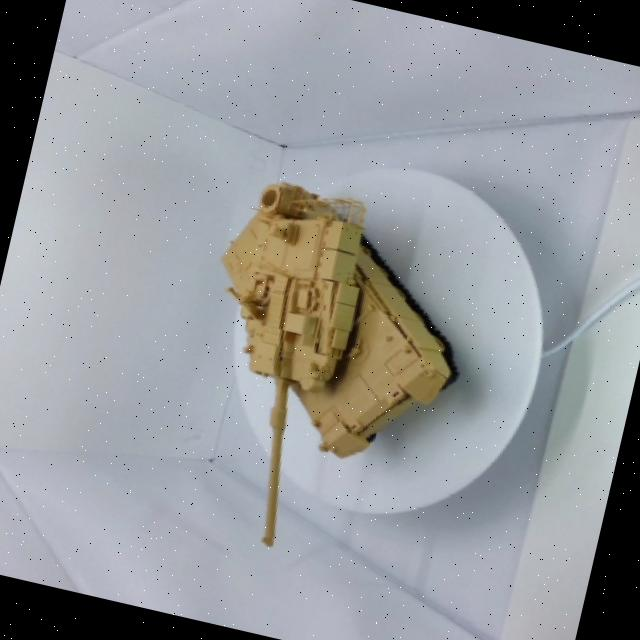korea tank: (127, 146, 519, 598)
